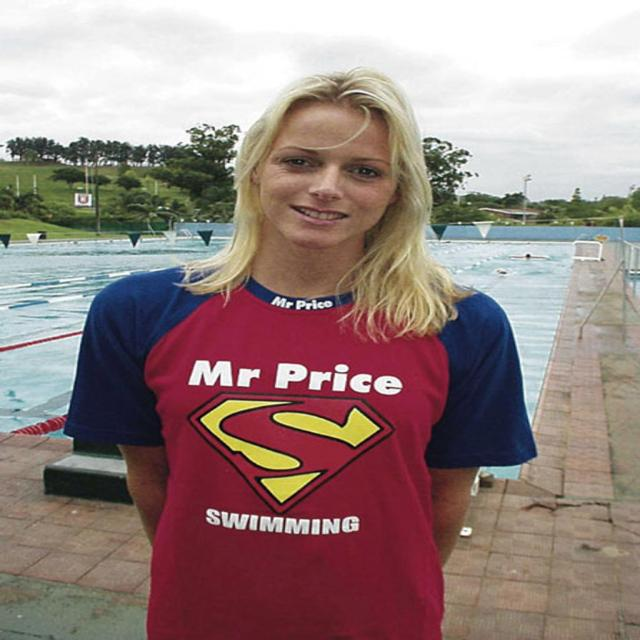Face: (247, 82, 419, 258)
